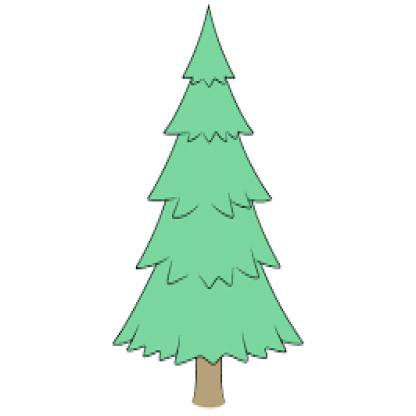trunk_straight: (192, 364, 226, 398)
